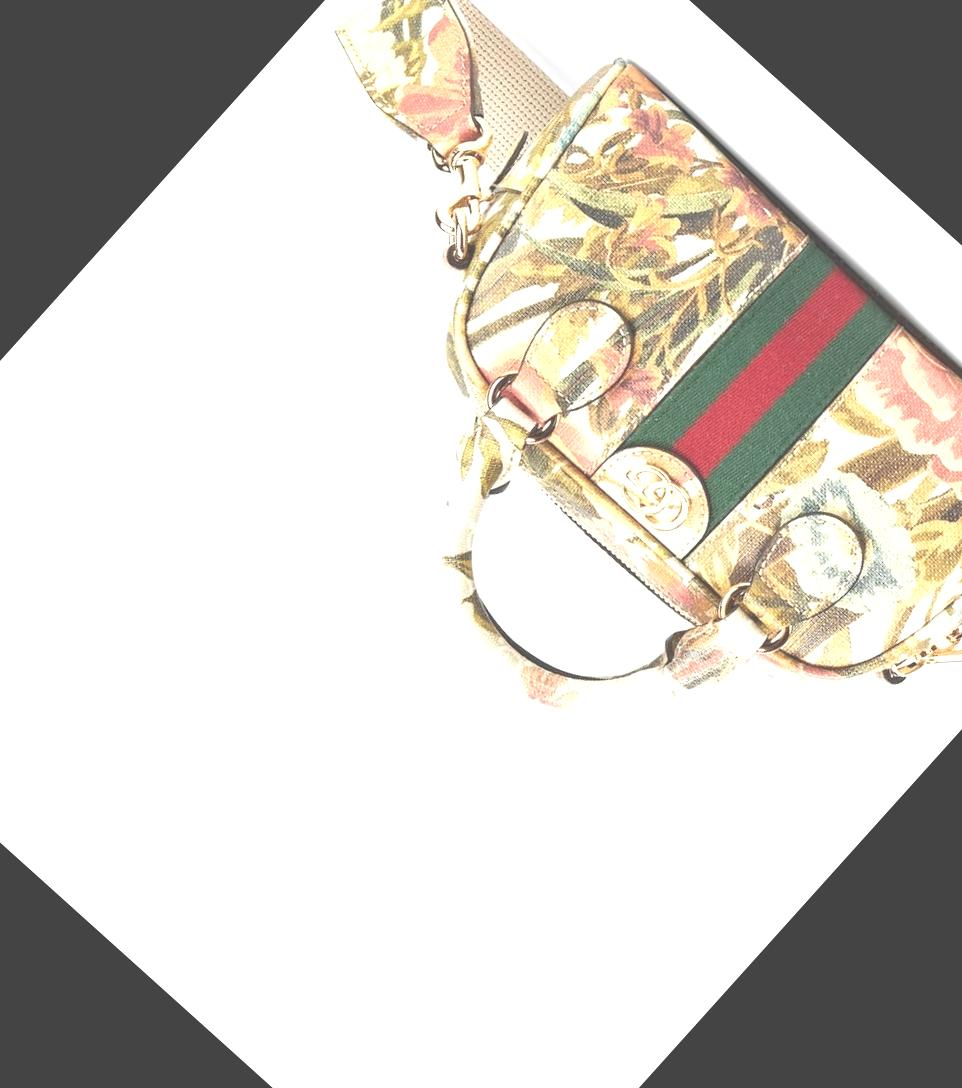GUCCI: (608, 450, 702, 542)
